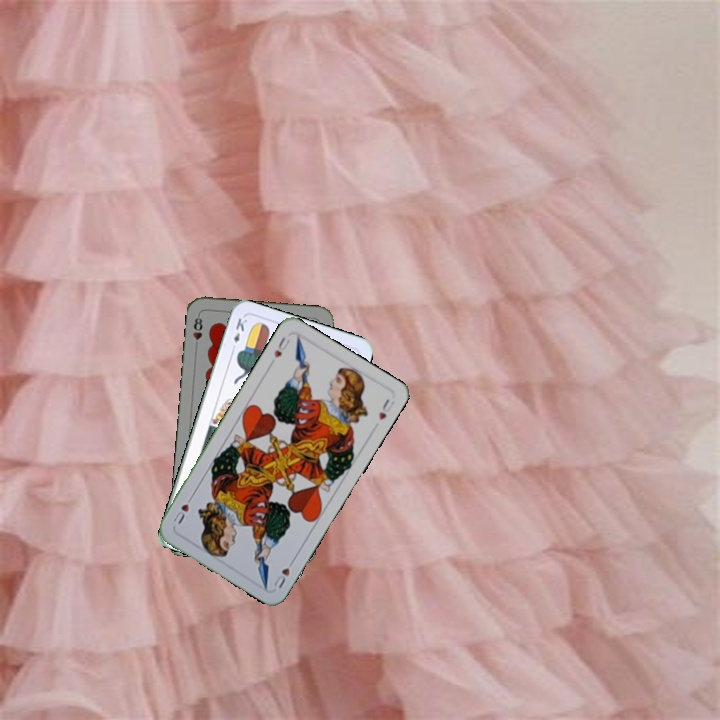EK: (227, 314, 250, 354)
H8: (189, 311, 205, 351)
HU: (269, 555, 297, 591), (266, 333, 293, 367)
